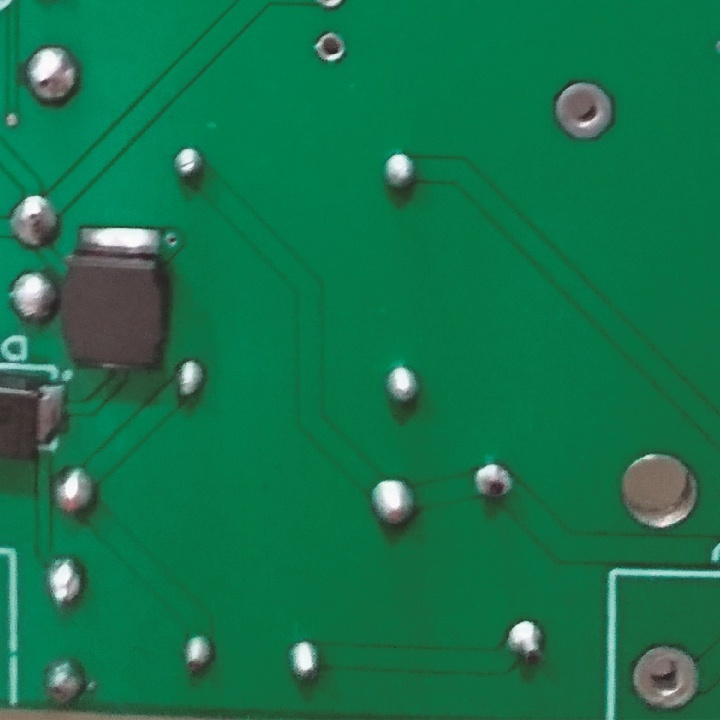F: (628, 640, 699, 715), (550, 78, 615, 140), (313, 29, 354, 67)
